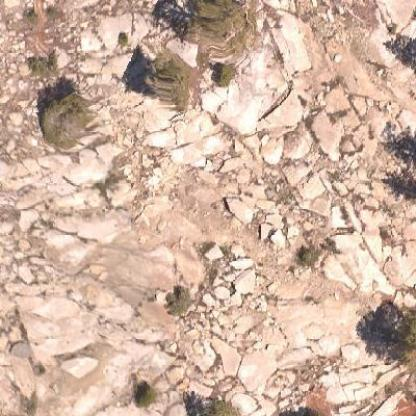tree-top: (33, 86, 103, 148), (143, 50, 204, 110)
